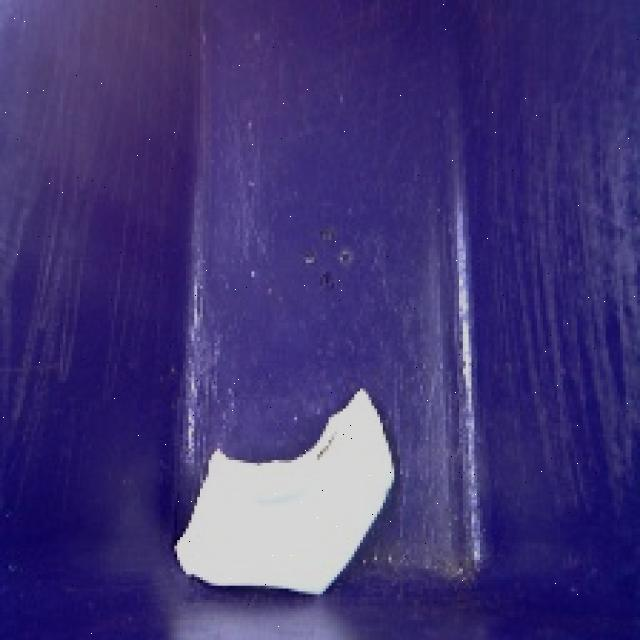china: (162, 373, 408, 617)
